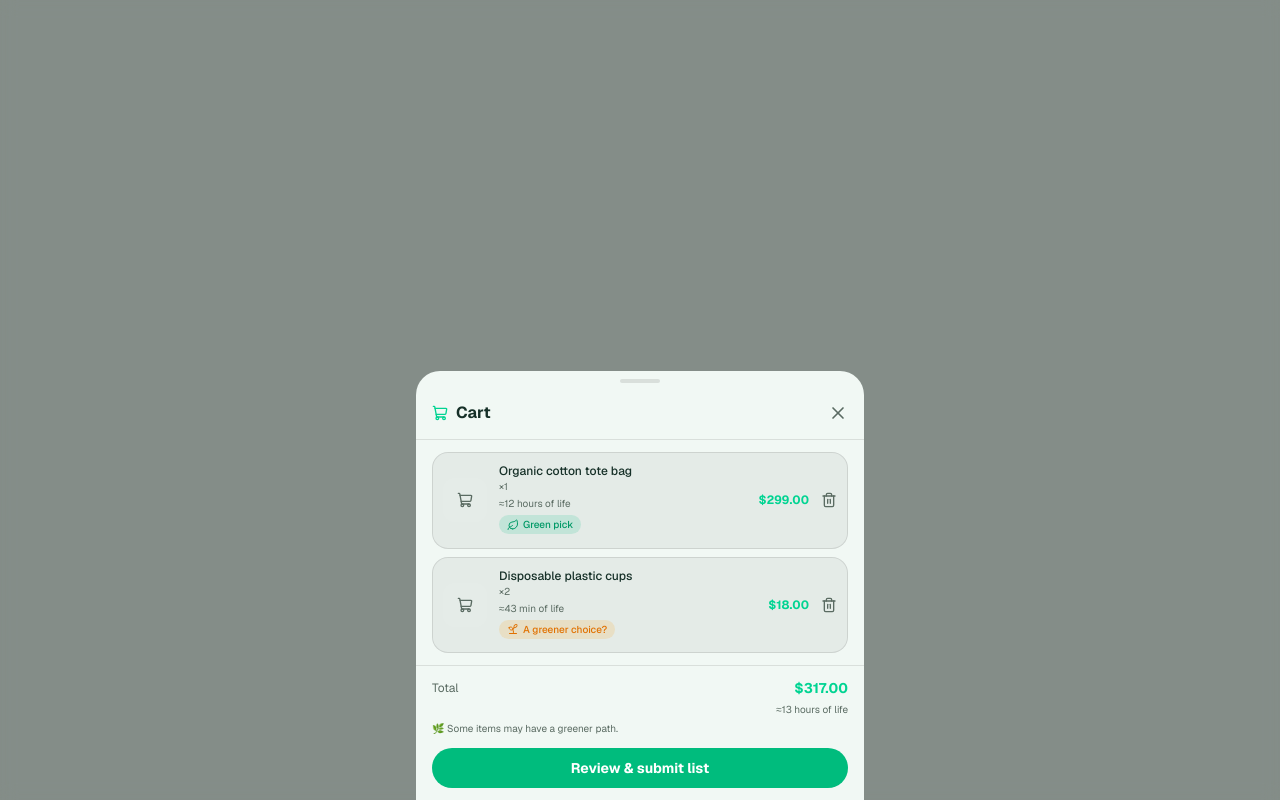
Test: ChatCartPanel › requires confirmation before checkout and celebrates the submitted list
Click the button "Review & submit list" at (640, 768), box [432,748,848,788]
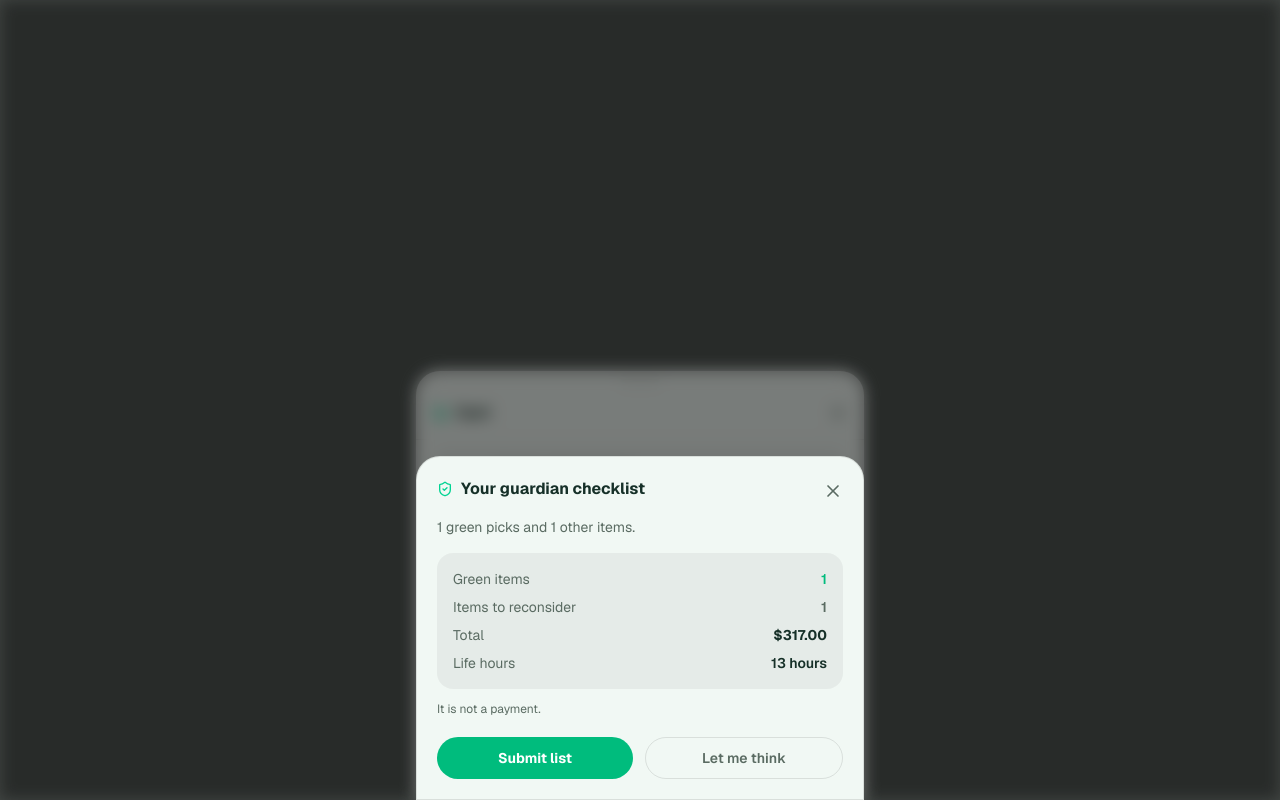
Expected: the dialog "Your guardian checklist" is shown, [416,456,864,799]
Expected: the text "1" in the row of "Items to reconsider" is shown, [821,598,827,616]
Click the button "Submit list" at (535, 758), box [437,737,633,779]
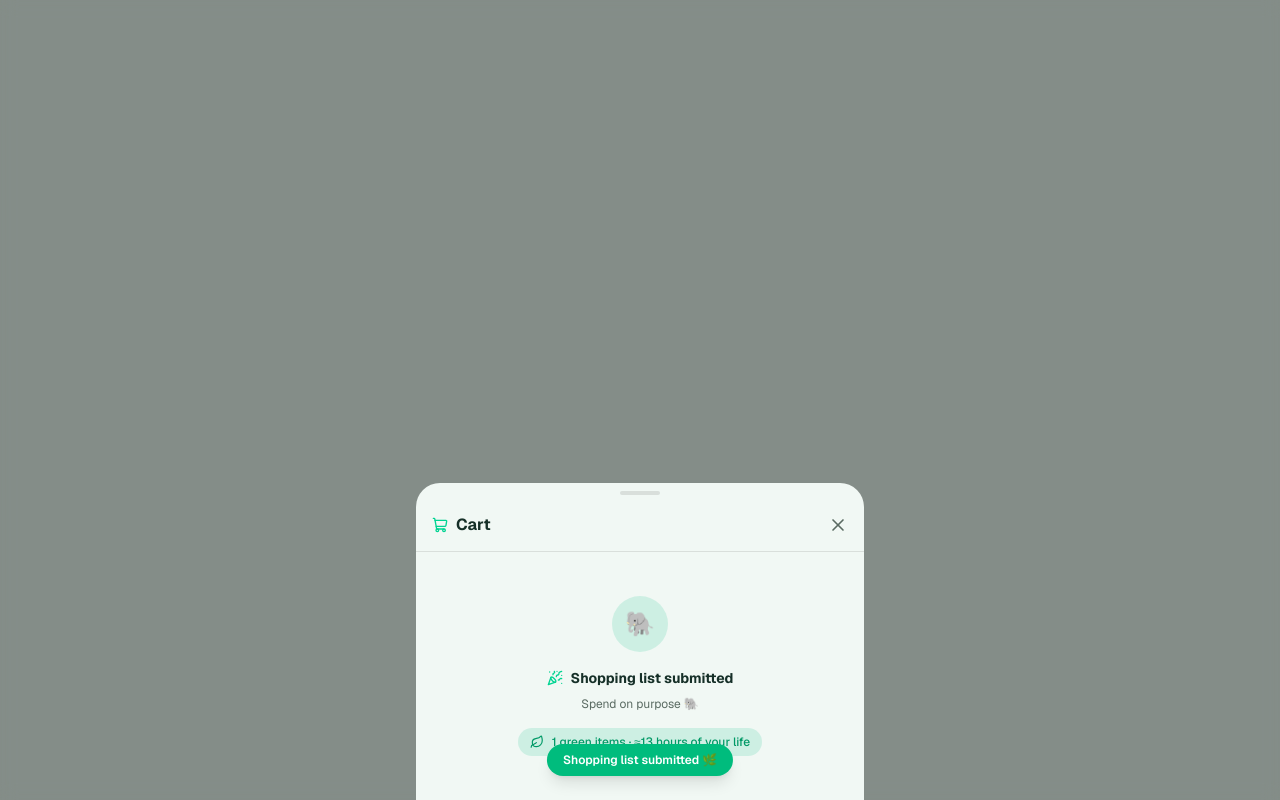
Expected: the element with test id "checkout-success" is shown, [518,596,762,776]
Expected: the heading "Shopping list submitted" is shown, [546,669,733,687]
Expected: the text "1 green items · ≈13 hours of your life" is shown, [518,728,762,756]
